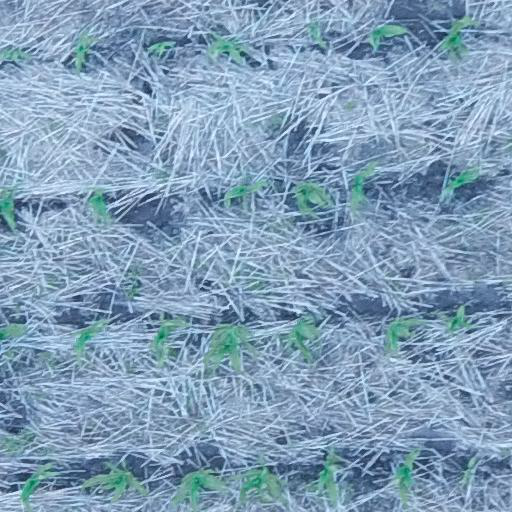planta: (81, 461, 147, 498), (203, 325, 257, 370), (228, 465, 286, 502), (176, 467, 225, 509), (306, 445, 339, 501), (150, 319, 188, 366), (393, 447, 419, 509), (440, 16, 478, 57), (383, 317, 424, 353), (286, 316, 318, 361), (440, 165, 480, 196), (73, 30, 101, 72), (295, 181, 331, 213), (351, 161, 376, 207), (73, 319, 107, 352), (206, 37, 249, 63), (222, 179, 264, 205), (369, 24, 408, 49), (86, 186, 112, 222), (447, 304, 475, 331), (146, 40, 174, 57), (308, 24, 325, 47)
